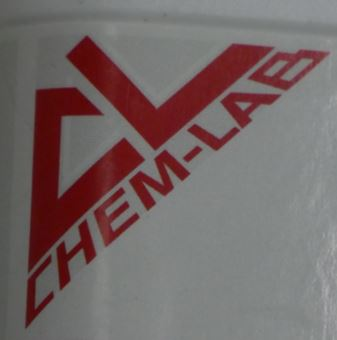ChemLab: (23, 33, 332, 330)
